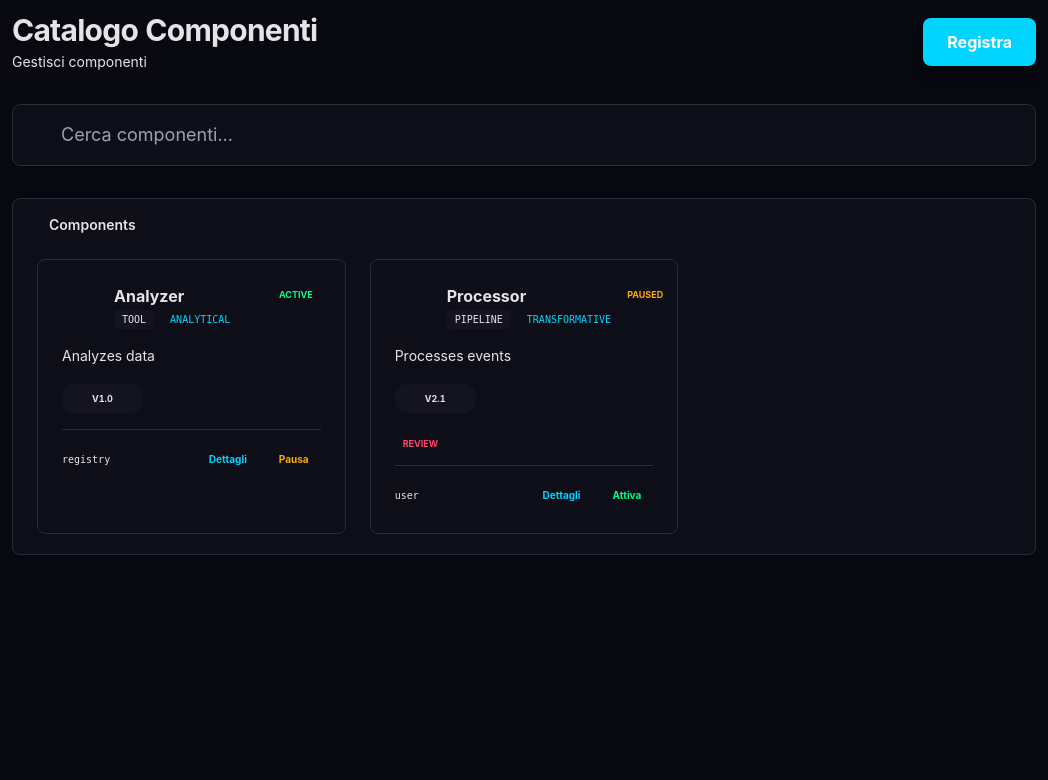
Test: ComponentsView › shows no match message on filter miss
Type "zzz-nonexistent" into the field with placeholder "Cerca componenti..." at (524, 135), box left=12, top=104, right=1036, bottom=166
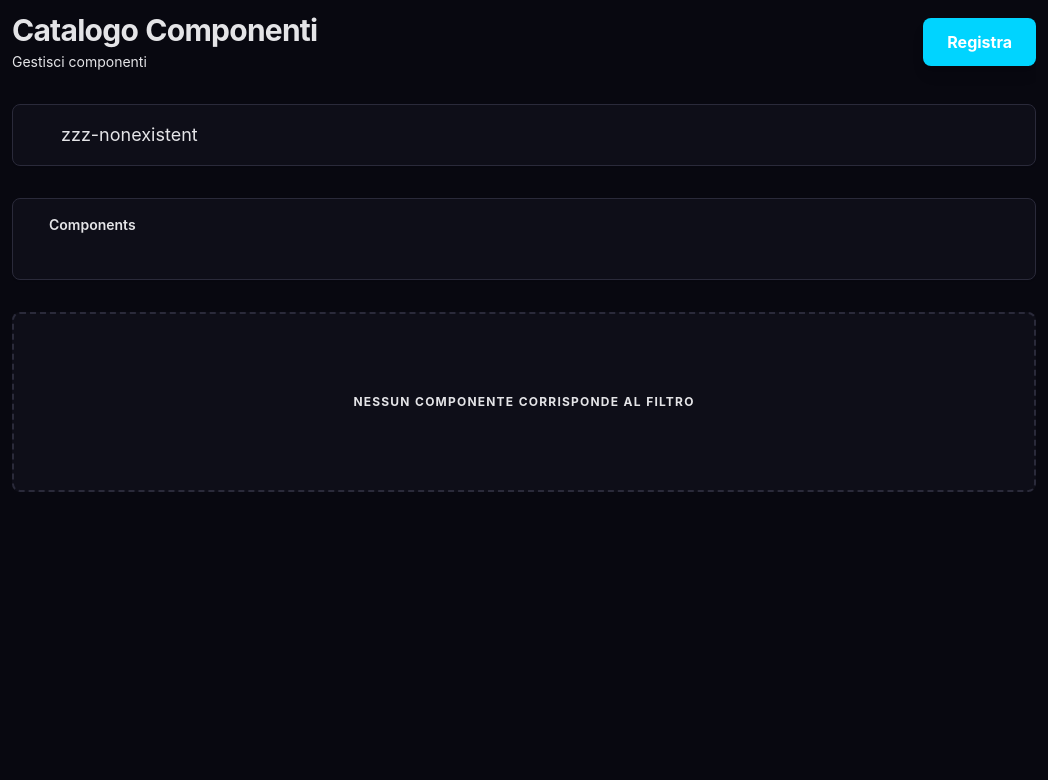
Expected: the text "Nessun componente corrisponde al filtro" is shown, left=353, top=394, right=695, bottom=409
